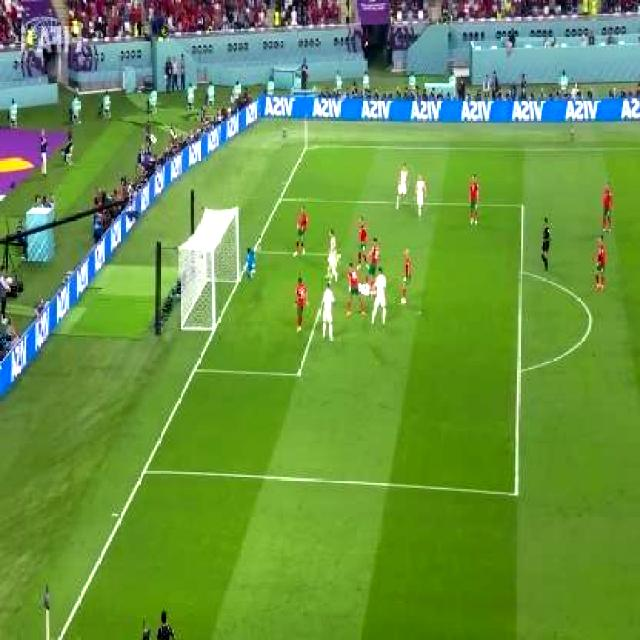bigarea_bottom_inner: (508, 478, 528, 504)
bigarea_bottom_outter: (136, 457, 156, 485)
bigarea_top_inner: (517, 195, 531, 214)
bigarea_top_outter: (274, 189, 289, 206)
bottom_arc_area_intersection: (512, 360, 528, 380)
corner: (300, 140, 315, 154)
smallarea_bottom_inner: (291, 359, 309, 386)
smallarea_bottom_outter: (186, 356, 208, 382)
top_arc_area_intersection: (516, 262, 530, 280)
